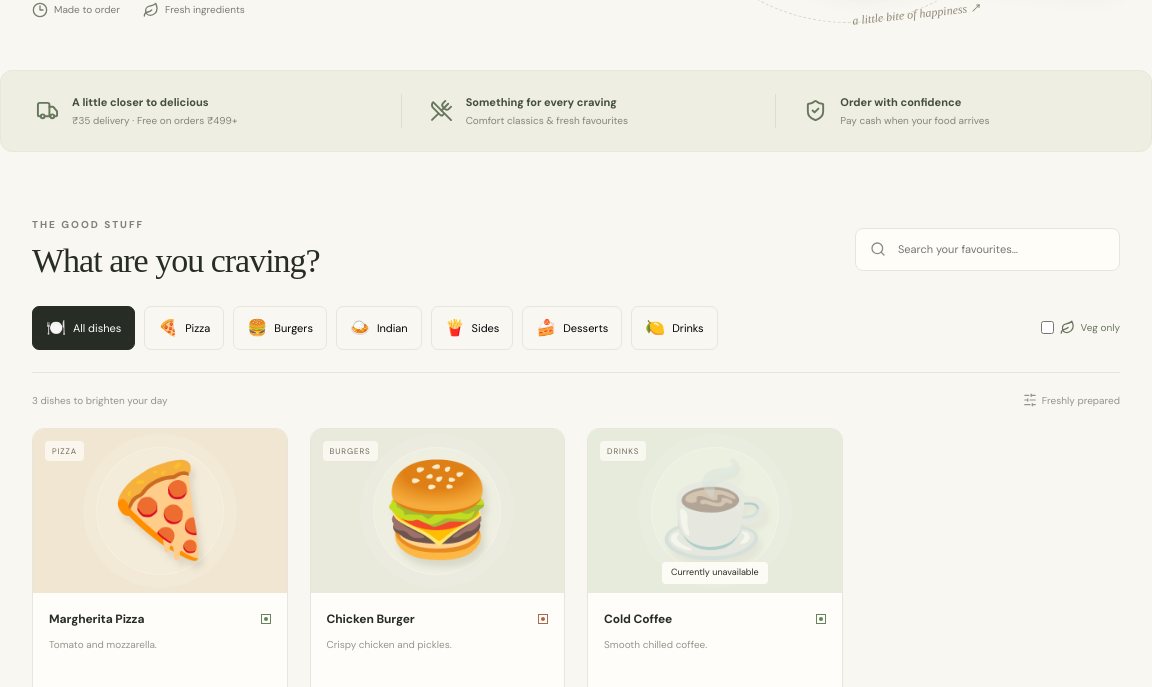
Test case: Customer ordering UI › filters dishes by search, category and vegetarian choice
The width and height of the screenshot is (1152, 687).
(page scrolled)
Expected: the heading "Margherita Pizza" is shown, x1=49 y1=610 x2=144 y2=628
Click the button "🍔 Burgers".
click(280, 328)  # box x1=233 y1=306 x2=327 y2=350
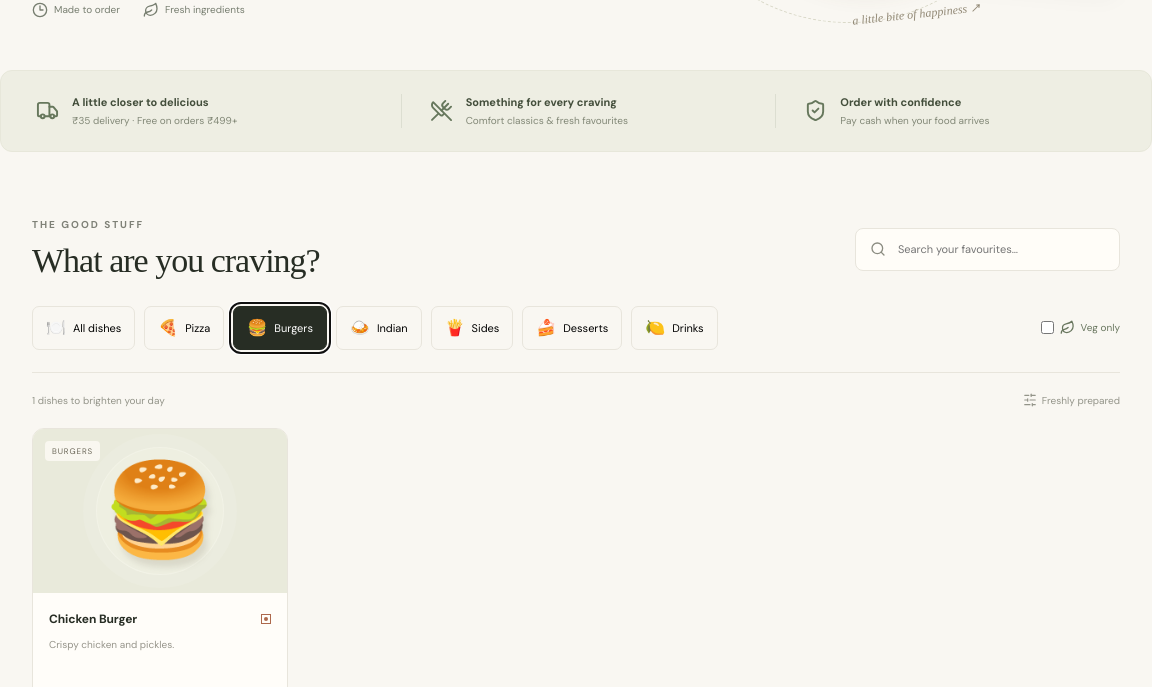
Expected: the heading "Chicken Burger" is shown, x1=49 y1=610 x2=137 y2=628
Expected: the heading "Margherita Pizza" is gone
Click the checkbox labelled "Veg only".
click(1047, 328)  # box x1=1041 y1=321 x2=1054 y2=334
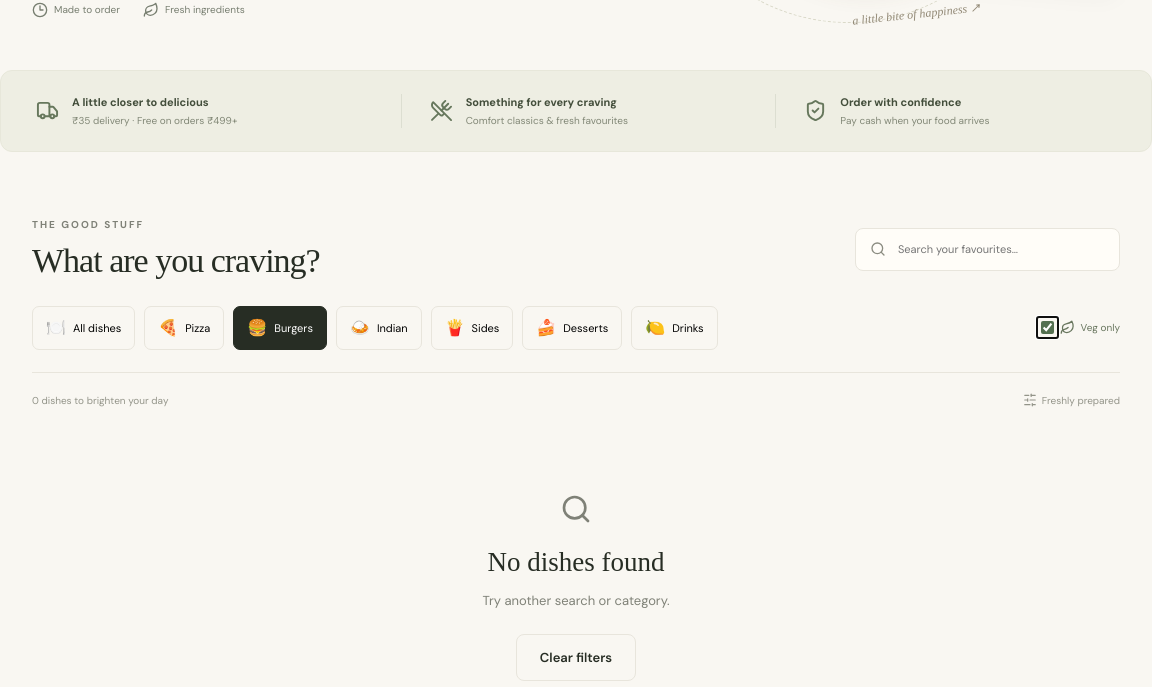
Expected: the heading "No dishes found" is shown, x1=488 y1=546 x2=664 y2=578
Click the button "Clear filters".
click(576, 657)  # box x1=516 y1=634 x2=636 y2=681
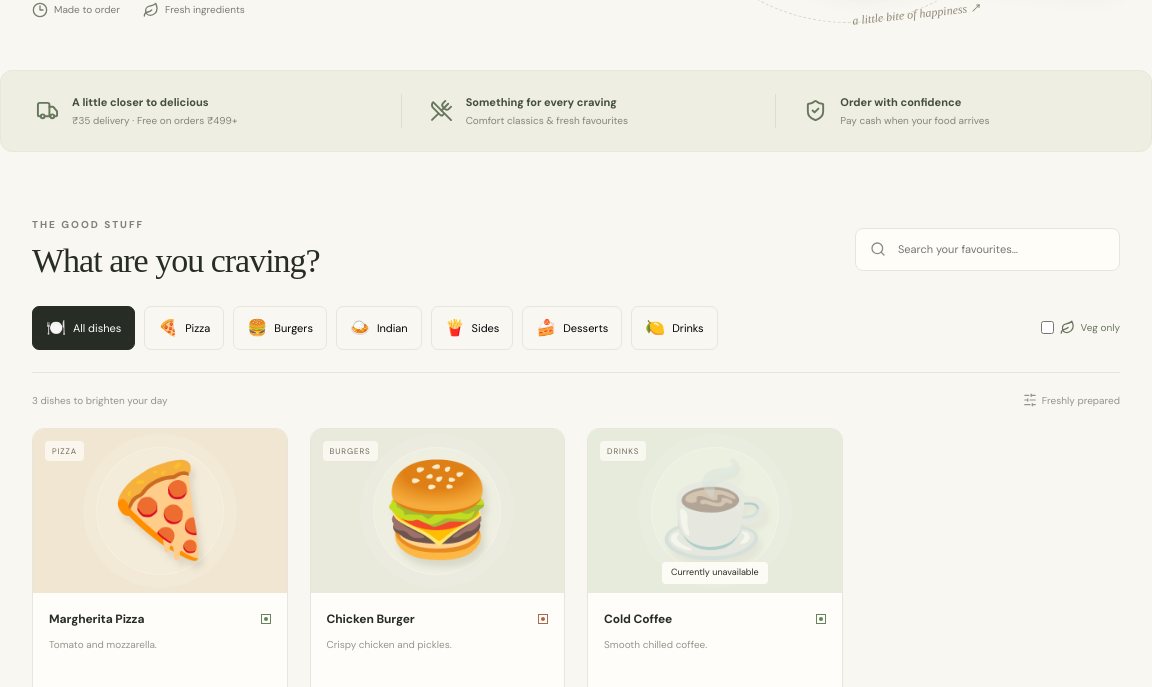
Type "mozzarella" into the field named "Search menu".
click(1000, 249); type("mozzarella")  # box x1=896 y1=240 x2=1105 y2=259
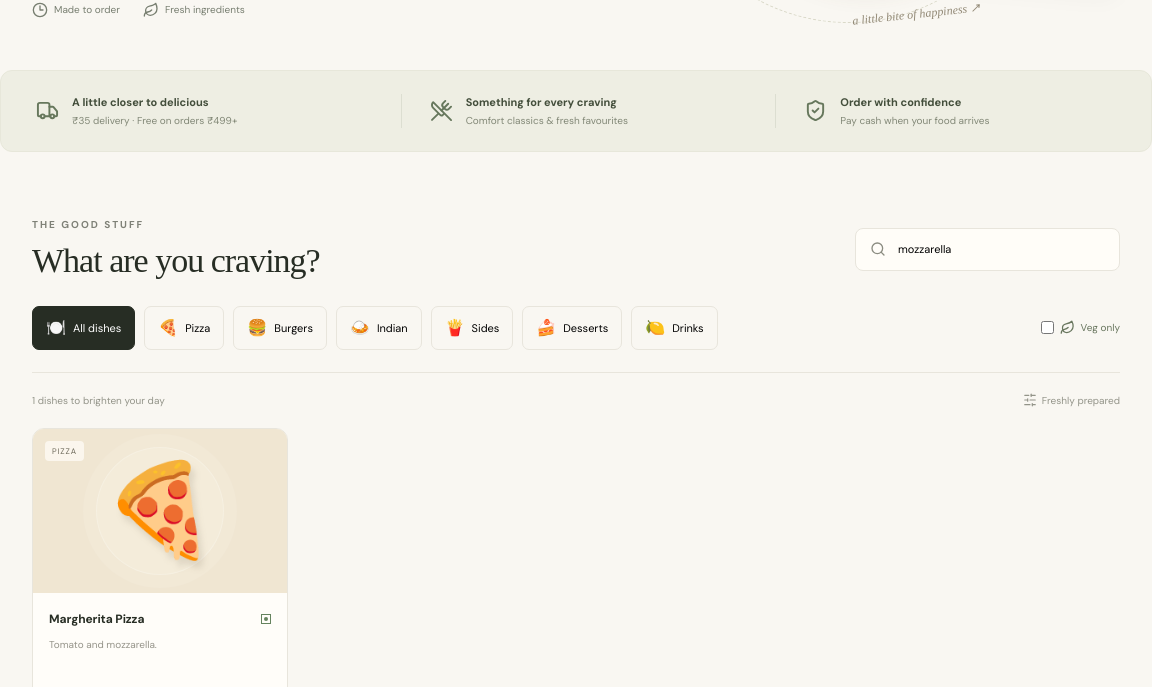
Expected: the heading "Margherita Pizza" is shown, x1=49 y1=610 x2=144 y2=628
Expected: the heading "Chicken Burger" is gone
